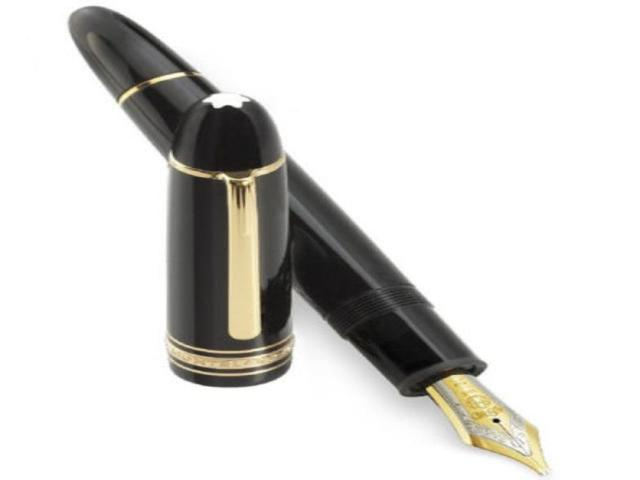PEN: (40, 11, 563, 480)
